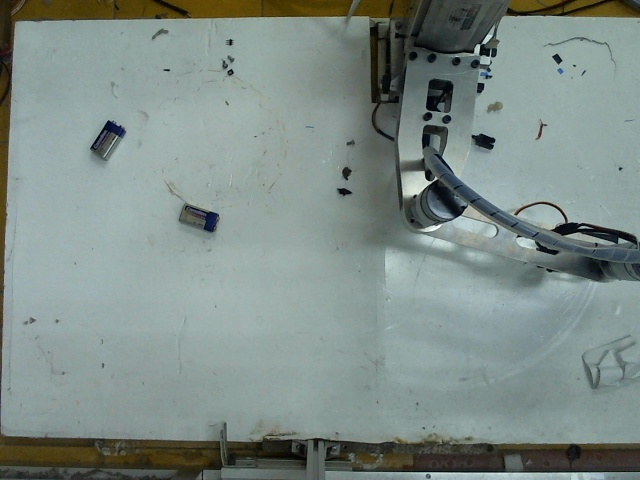battery: (89, 115, 127, 161), (174, 197, 218, 236)
